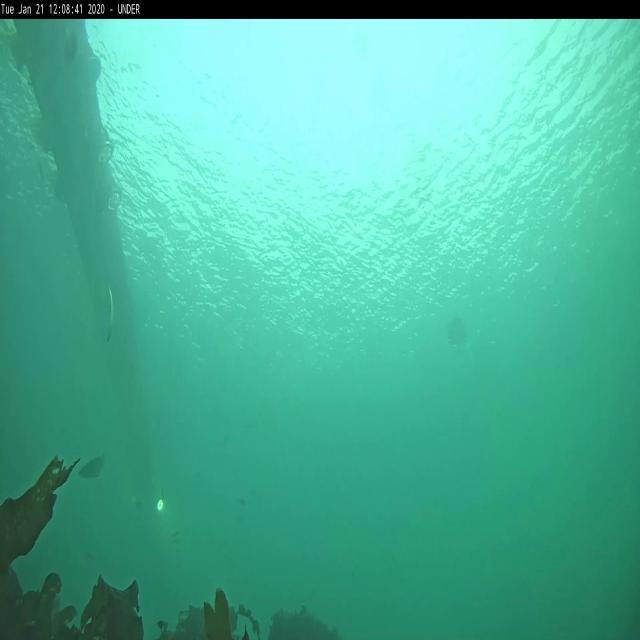fish: (76, 451, 108, 479), (104, 292, 115, 344)
